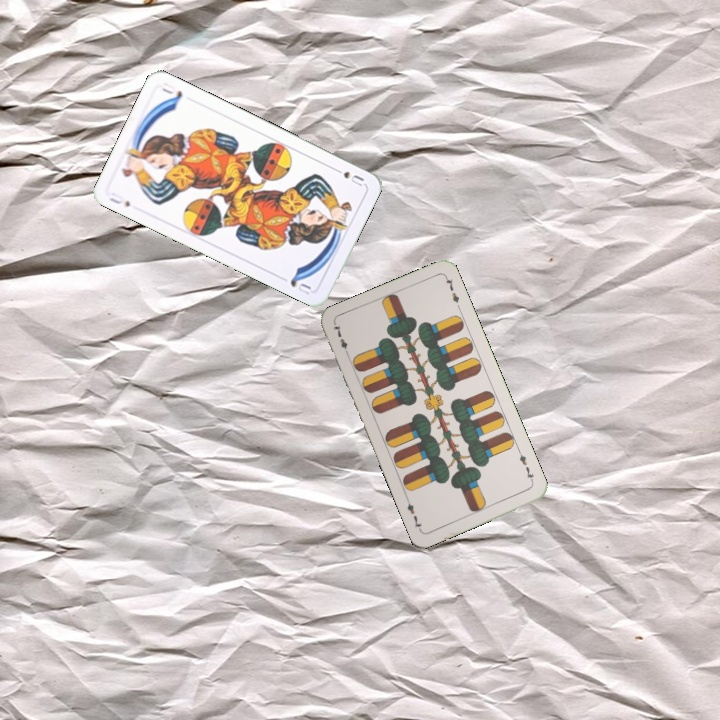E7: (329, 320, 352, 359), (515, 447, 536, 486)
SU: (329, 163, 366, 189), (105, 190, 133, 209)
